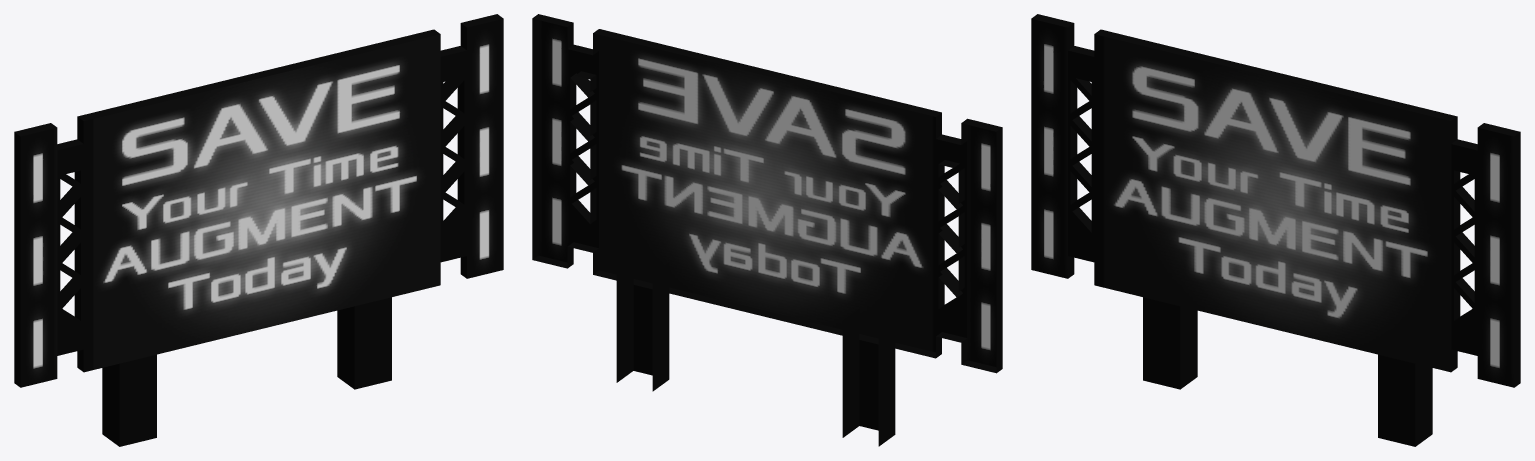
The model's file is bb_save.fbx.
The picture shows the model from 3 angles, left to right: view 1: azimuth 30°, elevation 25°; view 2: azimuth 150°, elevation 25°; view 3: azimuth 330°, elevation 25°; orthographic projection. The views are drawn at different scales.
Visible parts, largest first — view 1: bb_save; view 2: bb_save; view 3: bb_save.
Part boxes in pixels (left/top/right/bottom): bb_save: left=14, top=14, right=503, bottom=446; bb_save: left=532, top=14, right=1002, bottom=446; bb_save: left=1031, top=14, right=1520, bottom=446.
Size of the model in its own units: 325 by 219 by 27.76.
